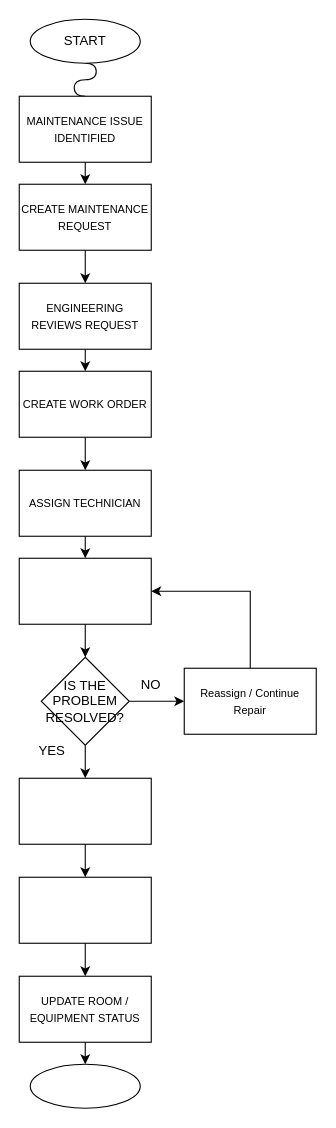
Some shapes in this 336 by 1128 pixel diagram are drawn without their labels. Here are the shapes that lost their labels. From the top down, the box of each, then its label:
(18, 557, 151, 624): TECHNICIAN PERFORMS REPAIR
(18, 777, 151, 844): COMPLETE WORK ORDER
(18, 876, 151, 943): RECORD REPAIR HISTORY
(29, 1063, 140, 1108): END
